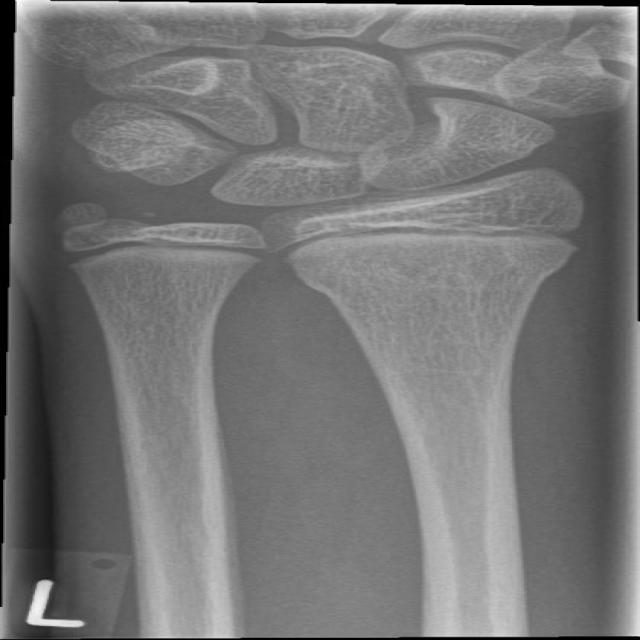fracture: (252, 217, 602, 268), (45, 229, 287, 276)
